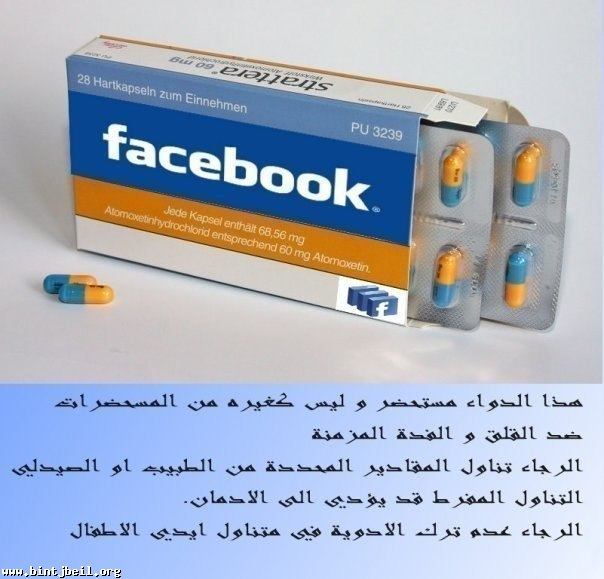Medicine: (62, 30, 425, 372)
